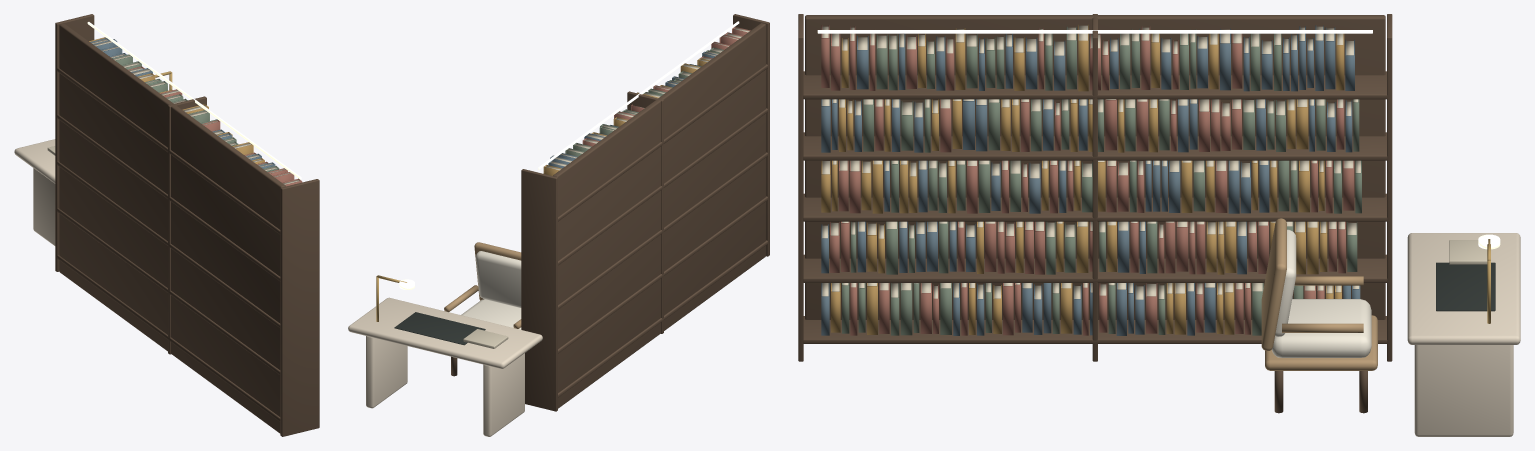
The model's file is room-library-upper.glb.
The picture shows the model from 3 angles, left to right: view 1: azimuth 30°, elevation 25°; view 2: azimuth 150°, elevation 25°; view 3: azimuth 270°, elevation 25°; orthographic projection. The views are drawn at different scales.
Visible parts, largest first — view 1: library-upper__honey ash, library-upper__honed travertine, library-upper__library warm paper edges, library-upper__estate warm opal diffuser, library-upper__library olive cloth, library-upper__library slate cloth, library-upper__library clay cloth, library-upper__library ochre cloth; view 2: library-upper__honey ash, library-upper__honed travertine, library-upper__linen, library-upper__library warm paper edges, library-upper__charcoal, library-upper__estate warm opal diffuser, library-upper__pale oak, library-upper__library clay cloth, library-upper__library olive cloth, library-upper__library slate cloth, library-upper__library ochre cloth; view 3: library-upper__honey ash, library-upper__library clay cloth, library-upper__library slate cloth, library-upper__library olive cloth, library-upper__library ochre cloth, library-upper__library warm paper edges, library-upper__honed travertine, library-upper__pale oak, library-upper__linen, library-upper__charcoal, library-upper__estate warm opal diffuser.
Boxes of the visible parts, x1=… form: library-upper__honey ash: x1=55, y1=14, x2=319, y2=436; library-upper__honed travertine: x1=14, y1=139, x2=55, y2=245; library-upper__library warm paper edges: x1=47, y1=38, x2=299, y2=184; library-upper__estate warm opal diffuser: x1=87, y1=22, x2=301, y2=179; library-upper__library olive cloth: x1=112, y1=54, x2=279, y2=172; library-upper__library slate cloth: x1=90, y1=38, x2=275, y2=168; library-upper__library clay cloth: x1=128, y1=66, x2=302, y2=186; library-upper__library ochre cloth: x1=89, y1=37, x2=264, y2=163; library-upper__honey ash: x1=451, y1=14, x2=769, y2=411; library-upper__honed travertine: x1=348, y1=297, x2=542, y2=436; library-upper__linen: x1=461, y1=251, x2=521, y2=329; library-upper__library warm paper edges: x1=463, y1=28, x2=749, y2=348; library-upper__charcoal: x1=394, y1=312, x2=485, y2=345; library-upper__estate warm opal diffuser: x1=399, y1=21, x2=739, y2=289; library-upper__pale oak: x1=444, y1=242, x2=521, y2=328; library-upper__library clay cloth: x1=582, y1=26, x2=750, y2=146; library-upper__library olive cloth: x1=565, y1=47, x2=723, y2=156; library-upper__library slate cloth: x1=548, y1=51, x2=716, y2=168; library-upper__library ochre cloth: x1=543, y1=58, x2=709, y2=175; library-upper__honey ash: x1=798, y1=14, x2=1392, y2=413; library-upper__library clay cloth: x1=821, y1=25, x2=1354, y2=335; library-upper__library slate cloth: x1=821, y1=25, x2=1360, y2=335; library-upper__library olive cloth: x1=842, y1=26, x2=1361, y2=335; library-upper__library ochre cloth: x1=821, y1=24, x2=1344, y2=334; library-upper__library warm paper edges: x1=822, y1=25, x2=1487, y2=299; library-upper__honed travertine: x1=1407, y1=233, x2=1520, y2=436; library-upper__pale oak: x1=1261, y1=218, x2=1377, y2=370; library-upper__linen: x1=1272, y1=229, x2=1371, y2=357; library-upper__charcoal: x1=1436, y1=262, x2=1495, y2=311; library-upper__estate warm opal diffuser: x1=817, y1=30, x2=1500, y2=249.
Bounding box in the file's own units: 1.67 × 2.28 × 4.6.
